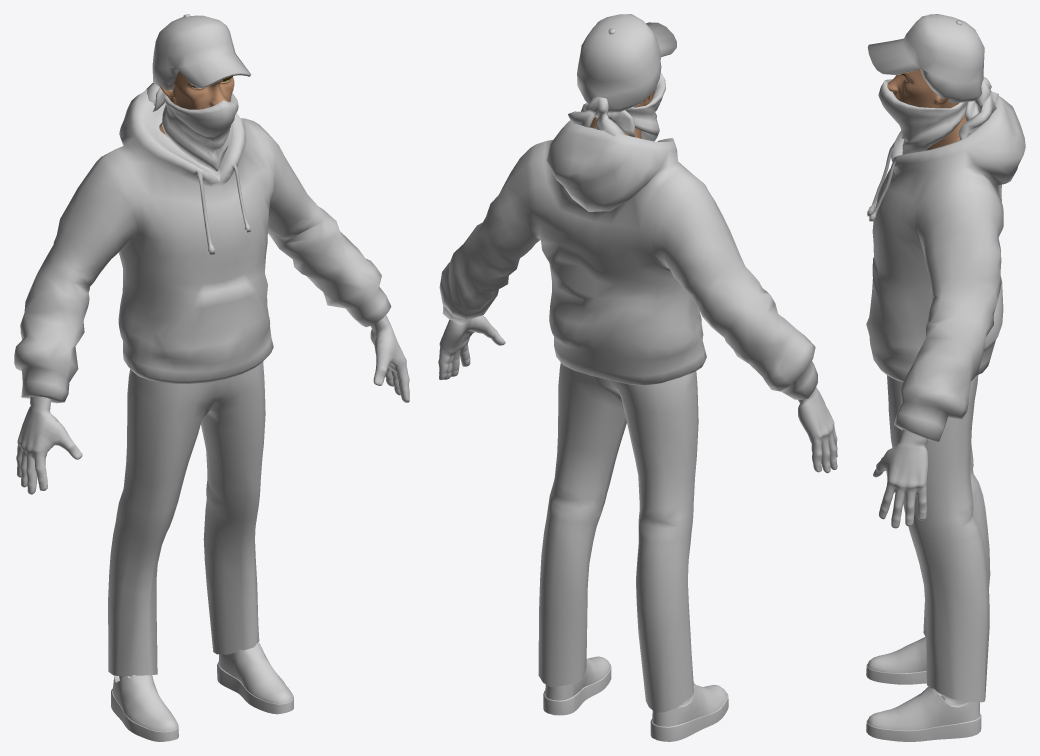
Rendered from M Character 14.fbx.
3 renders of one model, left to right at view 1: azimuth 30°, elevation 25°; view 2: azimuth 150°, elevation 25°; view 3: azimuth 270°, elevation 25°, orthographic.
Parts seen in each view (by area): view 1: Wolf3D_Outfit_Top.005, Wolf3D_Outfit_Bottom.005, Wolf3D_Outfit_Footwear.005, Wolf3D_Headwear.004, m_body.004, Wolf3D_Facewear.001, m_head.001; view 2: Wolf3D_Outfit_Top.005, Wolf3D_Outfit_Bottom.005, Wolf3D_Headwear.004, Wolf3D_Outfit_Footwear.005, m_body.004, Wolf3D_Facewear.001; view 3: Wolf3D_Outfit_Top.005, Wolf3D_Outfit_Bottom.005, Wolf3D_Headwear.004, Wolf3D_Outfit_Footwear.005, m_body.004, Wolf3D_Facewear.001, m_head.001.
Part boxes in pixels (x1,y1,x2,y2): Wolf3D_Outfit_Top.005: [14, 89, 391, 403]; Wolf3D_Outfit_Bottom.005: [108, 361, 265, 675]; Wolf3D_Outfit_Footwear.005: [111, 643, 293, 741]; Wolf3D_Headwear.004: [145, 14, 251, 105]; m_body.004: [16, 315, 409, 494]; Wolf3D_Facewear.001: [152, 88, 238, 171]; m_head.001: [159, 71, 234, 136]; Wolf3D_Outfit_Top.005: [439, 120, 817, 399]; Wolf3D_Outfit_Bottom.005: [538, 362, 698, 712]; Wolf3D_Headwear.004: [568, 14, 676, 136]; Wolf3D_Outfit_Footwear.005: [543, 656, 728, 741]; m_body.004: [438, 315, 837, 473]; Wolf3D_Facewear.001: [581, 72, 665, 141]; Wolf3D_Outfit_Top.005: [866, 96, 1025, 441]; Wolf3D_Outfit_Bottom.005: [887, 375, 990, 702]; Wolf3D_Headwear.004: [867, 14, 998, 139]; Wolf3D_Outfit_Footwear.005: [866, 636, 981, 741]; m_body.004: [873, 429, 928, 528]; Wolf3D_Facewear.001: [878, 79, 978, 154]; m_head.001: [887, 69, 966, 150].
Bounding box in the file's own units: 117 × 201 × 42.25.
